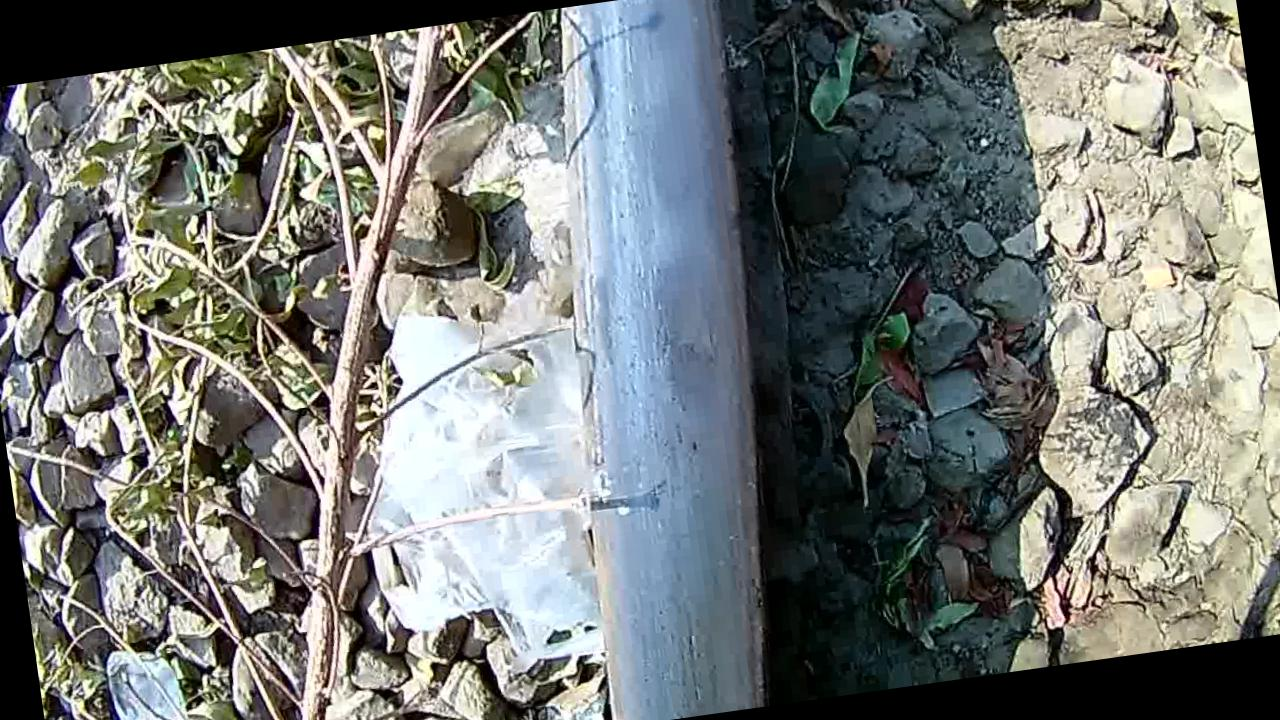bolt_missing: (580, 182, 778, 512)
